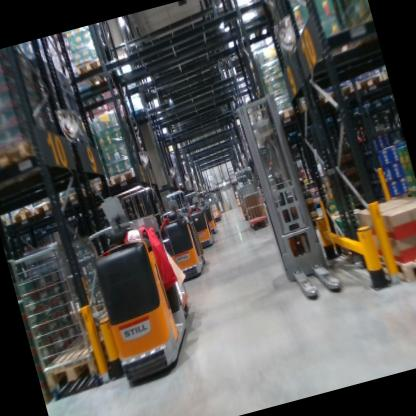pallet: (36, 329, 125, 400), (75, 48, 120, 97), (374, 242, 416, 294), (0, 128, 41, 180), (0, 193, 35, 227), (349, 69, 386, 100), (327, 75, 361, 106), (299, 84, 333, 115), (77, 173, 112, 203), (50, 185, 83, 211), (106, 165, 143, 188), (271, 105, 306, 128), (29, 193, 54, 220)
pallet_truck: (77, 178, 198, 383), (148, 172, 222, 295), (180, 180, 218, 253), (194, 183, 223, 244)
